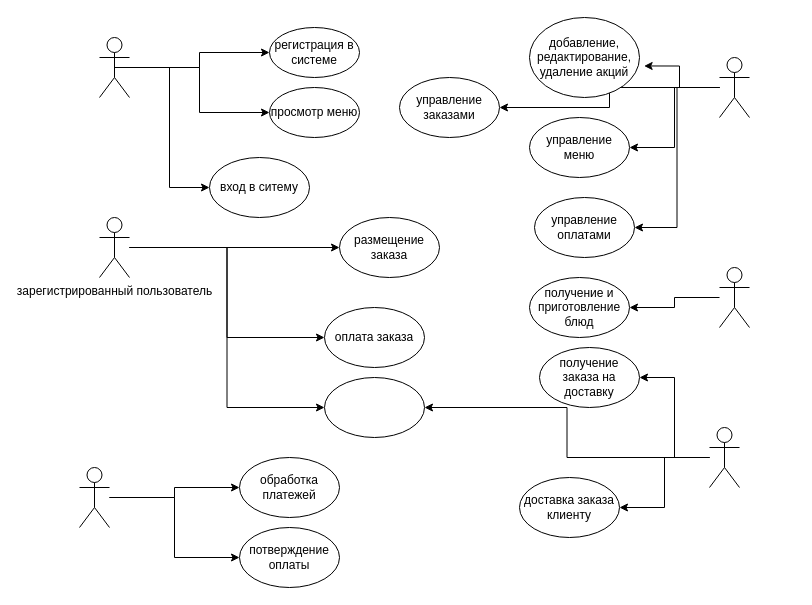
Some shapes in this 812 by 605 pixel diagram are drawn without their labels. The box of each missing label's shape, as (x1, y1, x2, y2) in pixels:
администратор сайта: (718, 56, 750, 118)
гость: (98, 36, 130, 98)
курьер: (708, 426, 740, 488)
отмена заказа: (324, 376, 424, 438)
повар: (718, 266, 750, 328)
система оплаты: (78, 466, 110, 528)
